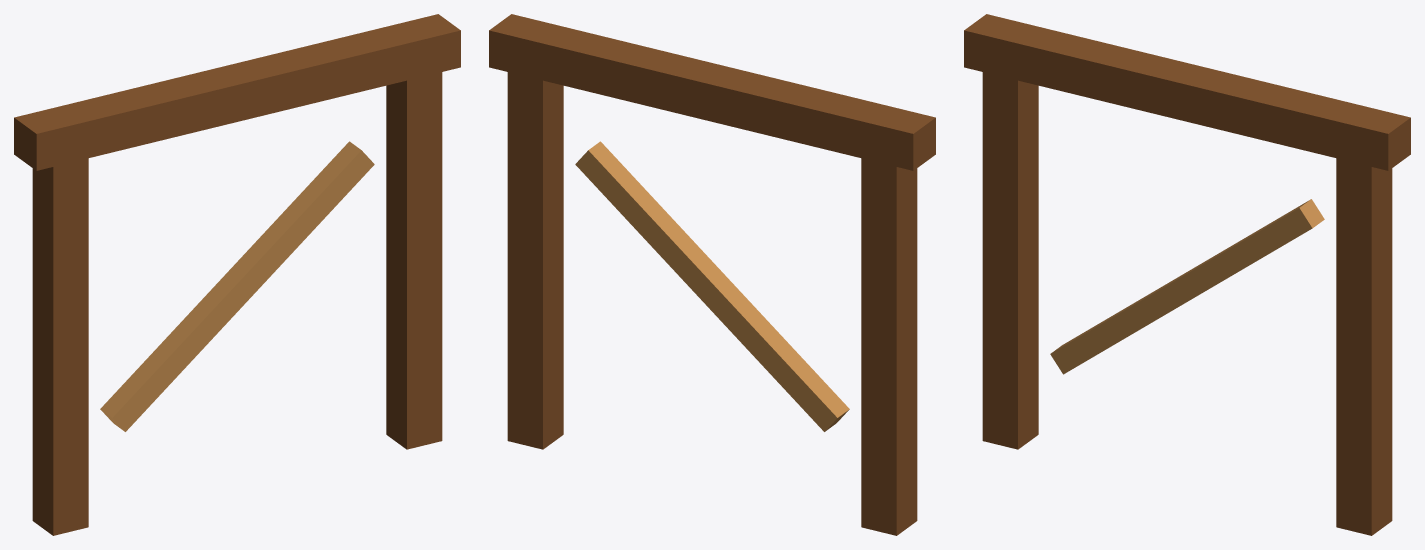
File: support_beam_cross.glb
3 views of the same model, side by side, from view 1: azimuth 30°, elevation 25°; view 2: azimuth 150°, elevation 25°; view 3: azimuth 330°, elevation 25° (orthographic).
Visible parts, largest first — view 1: support_beam_cross; view 2: support_beam_cross; view 3: support_beam_cross.
Part boxes in pixels (bbox=[...]): support_beam_cross: bbox=[14, 14, 460, 535]; support_beam_cross: bbox=[489, 14, 935, 535]; support_beam_cross: bbox=[964, 14, 1410, 535].
Size of the model in its own units: 2.4 by 2.2 by 0.22.
